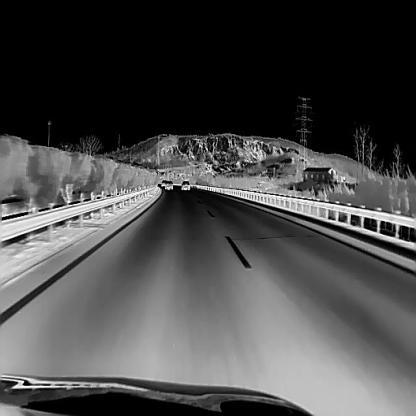car: (180, 180, 189, 190), (165, 181, 173, 189), (161, 179, 167, 186)
